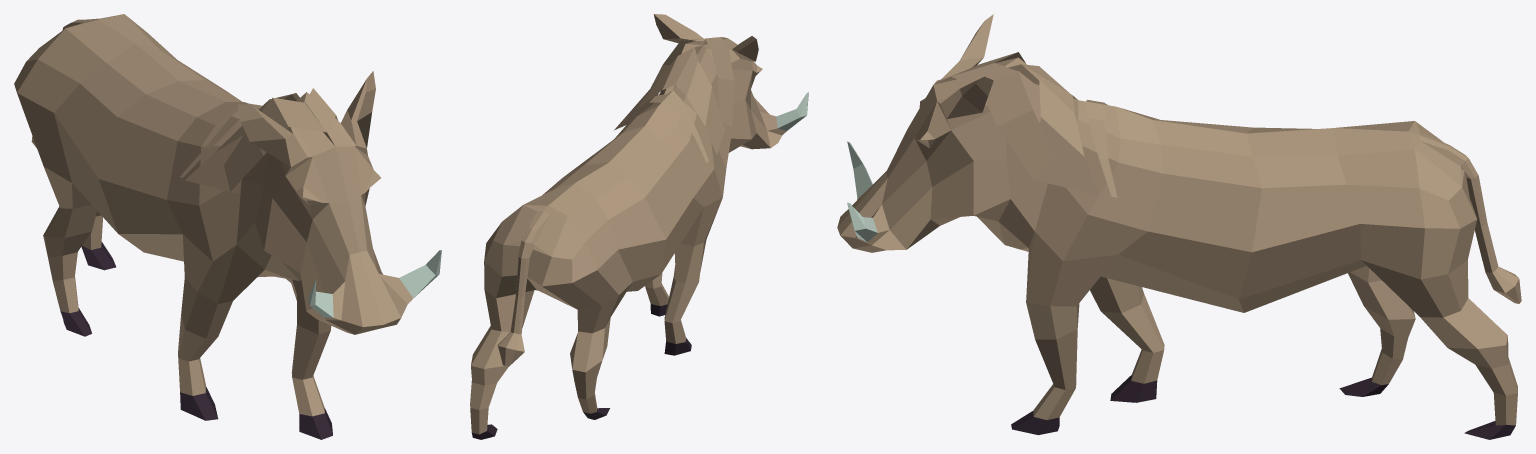
Rendered from Wildschwein1.fbx.
The picture shows the model from 3 angles, left to right: view 1: azimuth 30°, elevation 25°; view 2: azimuth 150°, elevation 25°; view 3: azimuth 270°, elevation 25°; orthographic projection. The views are drawn at different scales.
Parts seen in each view (by area): view 1: Wildschwein.002; view 2: Wildschwein.002; view 3: Wildschwein.002.
Part boxes in pixels (bbox=[...]): Wildschwein.002: bbox=[14, 14, 441, 439]; Wildschwein.002: bbox=[470, 14, 808, 439]; Wildschwein.002: bbox=[837, 14, 1521, 439].
Bounding box in the file's own units: 0.5842 × 1.32 × 2.23.
